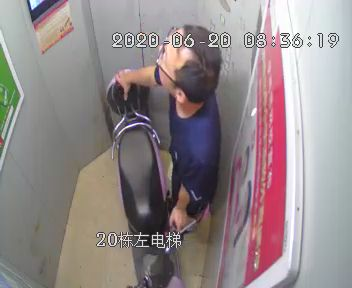Electric-bicycle: (105, 71, 205, 288)
